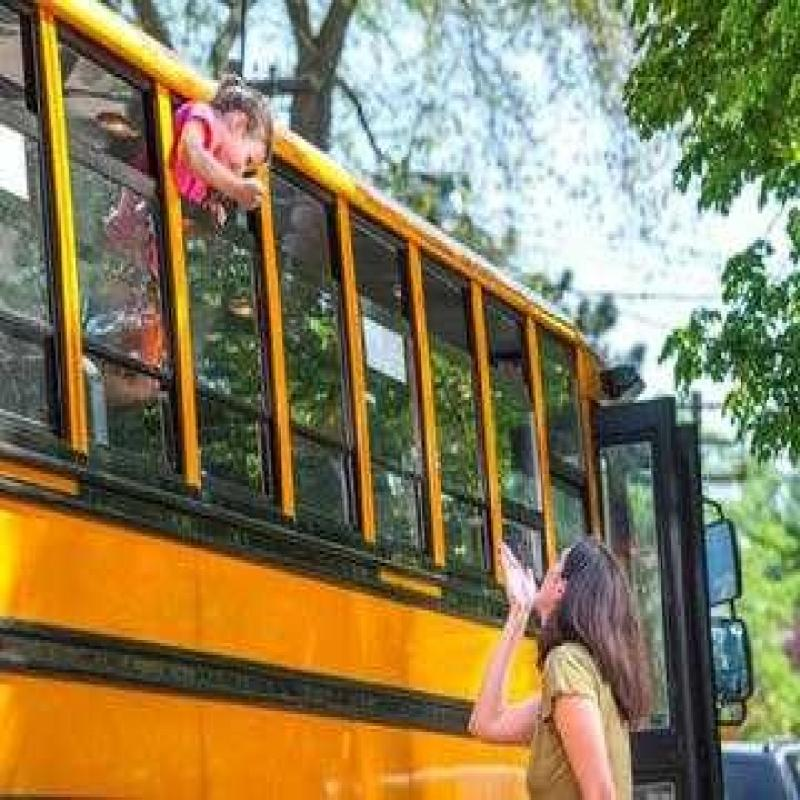bus: (29, 19, 722, 800)
